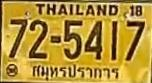1: (110, 20, 116, 60)
2: (28, 19, 47, 58)
4: (84, 20, 102, 58)
5: (63, 19, 82, 58)
7: (125, 20, 144, 60), (8, 18, 27, 57)
SPK: (29, 62, 121, 83)
